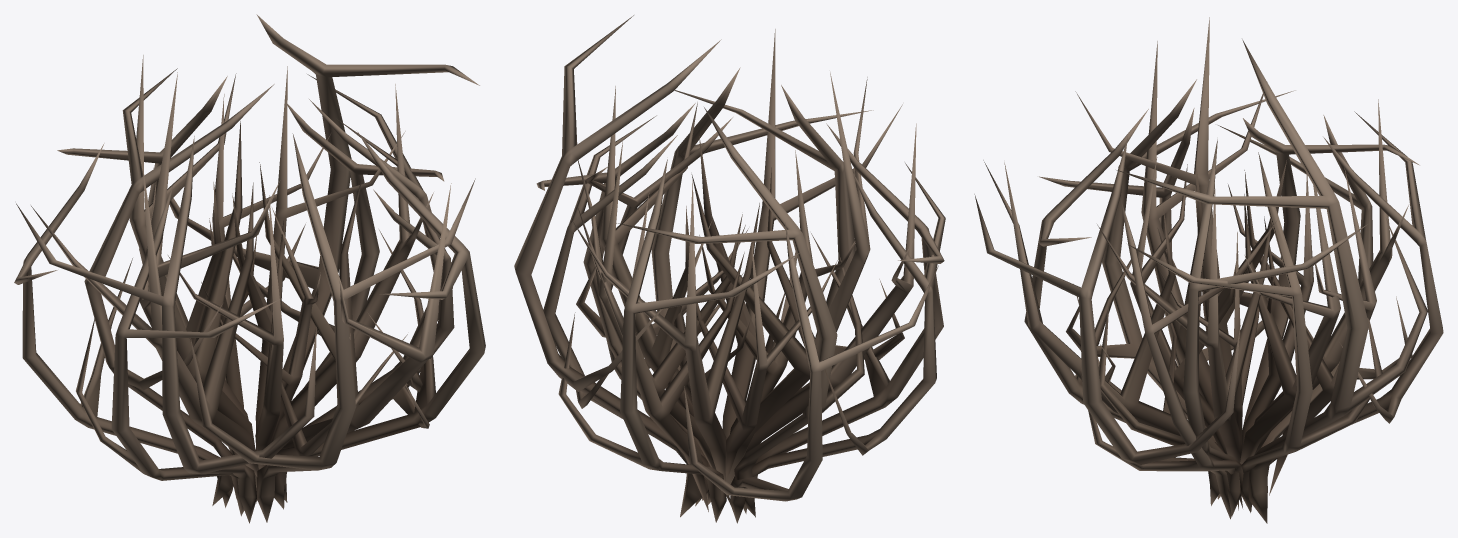
File: plants-bushes-twigs-tumbleweed_v1.fbx
3 views of the same model, side by side, from view 1: azimuth 30°, elevation 25°; view 2: azimuth 150°, elevation 25°; view 3: azimuth 270°, elevation 25° (orthographic). The views are drawn at different scales.
Visible parts, largest first — view 1: Tumbleweed; view 2: Tumbleweed; view 3: Tumbleweed.
Part boxes in pixels (x1,y1,x2,y2): Tumbleweed: [14, 14, 485, 523]; Tumbleweed: [514, 15, 945, 523]; Tumbleweed: [974, 17, 1443, 523].
Size of the model in its own units: 0.6774 by 0.8 by 0.7209.
